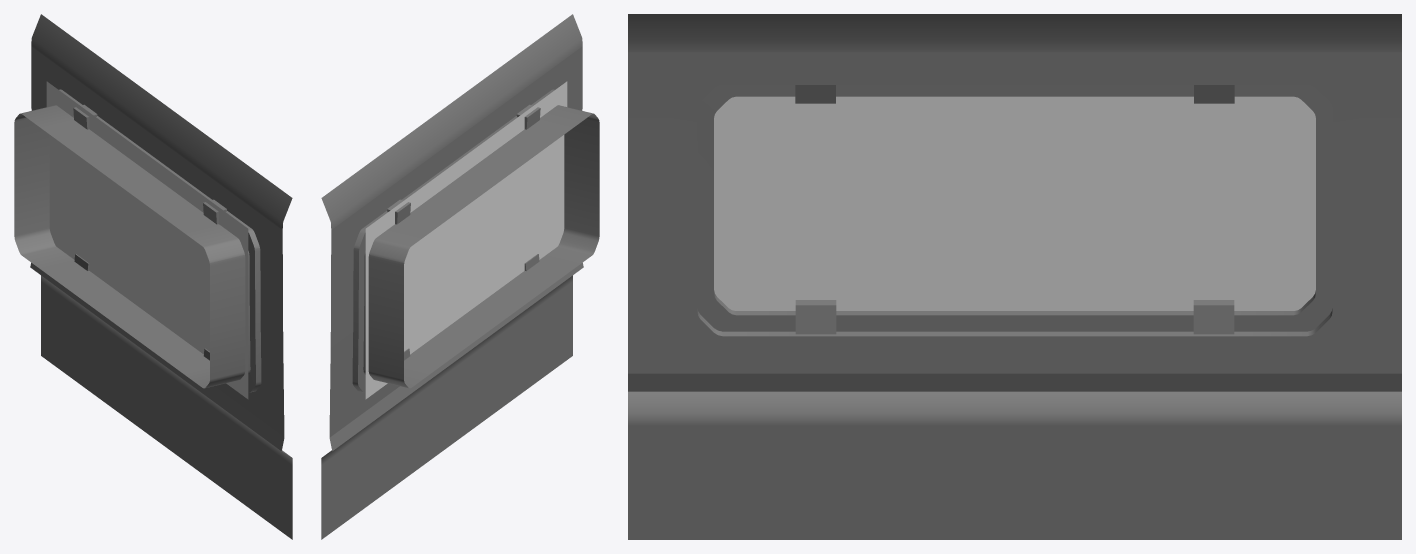
The model's file is q-scifi-mod-wallastra-straight-flat-window.glb.
The picture shows the model from 3 angles, left to right: view 1: azimuth 30°, elevation 25°; view 2: azimuth 150°, elevation 25°; view 3: azimuth 270°, elevation 25°; orthographic projection. The views are drawn at different scales.
Visible parts, largest first — view 1: WallAstra_Straight_Flat_Window; view 2: WallAstra_Straight_Flat_Window; view 3: WallAstra_Straight_Flat_Window.
Boxes of the visible parts, left/top/right/bottom form: WallAstra_Straight_Flat_Window: left=14, top=14, right=292, bottom=539; WallAstra_Straight_Flat_Window: left=321, top=14, right=599, bottom=539; WallAstra_Straight_Flat_Window: left=628, top=14, right=1401, bottom=539.
Size of the model in its own units: 0.5015 by 3 by 4.
5 materials, 4 textured.
